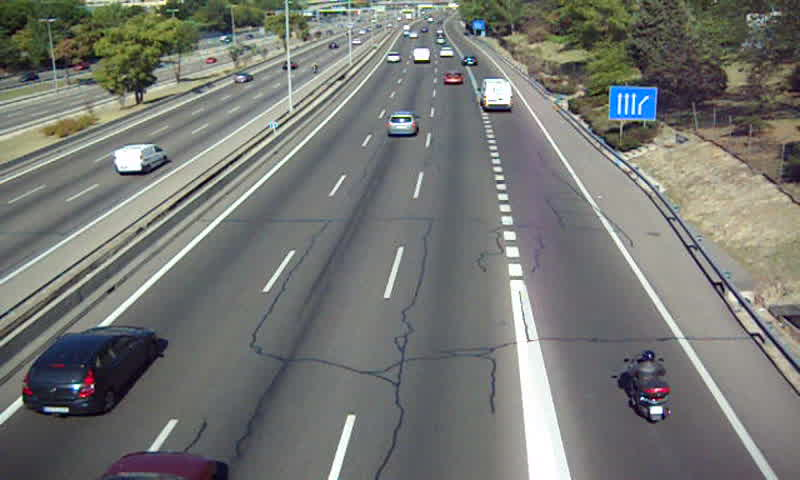car: (22, 325, 159, 416), (384, 110, 419, 138), (441, 69, 463, 86), (461, 53, 479, 67), (440, 46, 455, 58), (387, 51, 400, 64)
motorcycle: (624, 351, 669, 424)
van: (479, 78, 512, 111), (411, 47, 429, 63)
